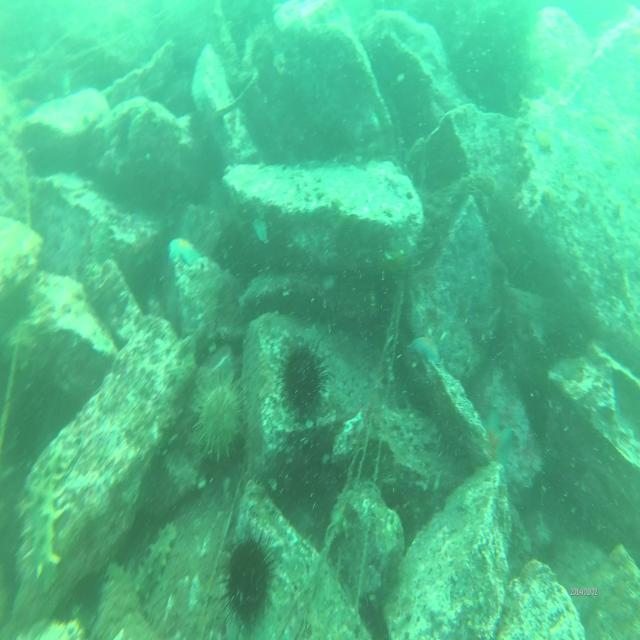echinus: (222, 526, 282, 626), (278, 334, 342, 427), (193, 365, 251, 465)
holothurian: (16, 453, 68, 574), (131, 518, 179, 606), (86, 213, 114, 273)
starfish: (482, 406, 516, 479), (406, 332, 443, 376), (165, 238, 208, 270)
